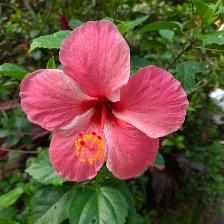hibiscus: (20, 20, 191, 186)
